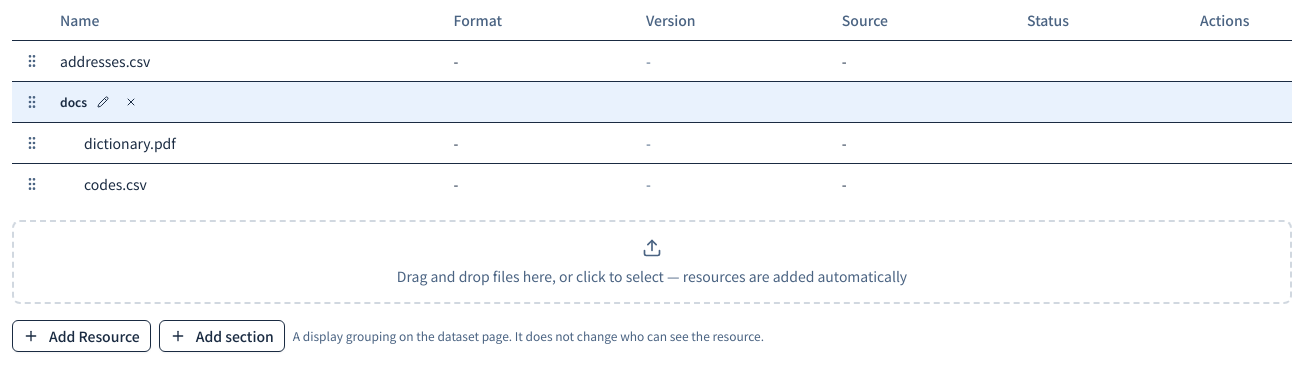
Test: ResourceList heading editing › locks the heading under edit too, and unlocks again on cancel
What coordinates should you click on to do the following:
click the button named "Rename section"
I would click on:
 (103, 102)
Its box is [91, 90, 115, 114].
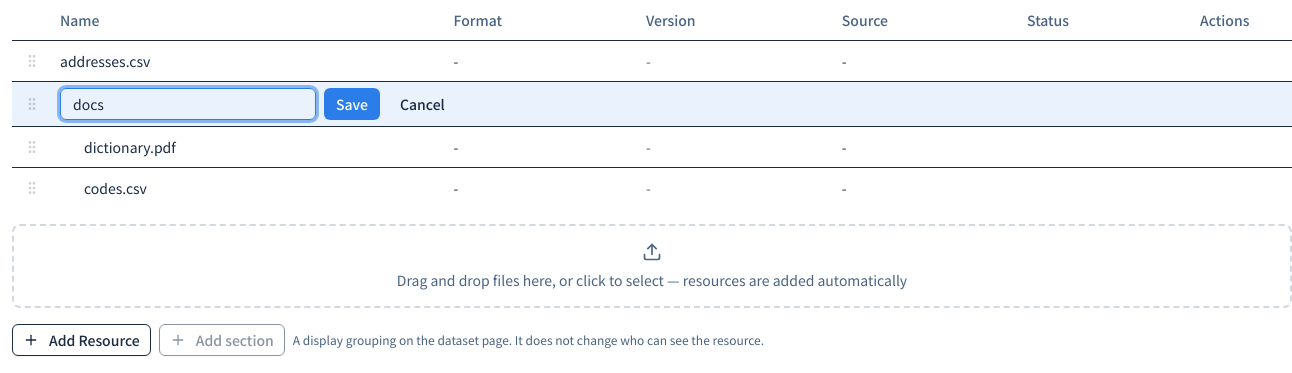
expect the button named "Reorder section" is disabled: met, box [20, 92, 44, 116]
What coordinates should you click on to do the following:
click the button "Cancel"
I would click on:
 (422, 104)
Its box is [388, 88, 457, 120].
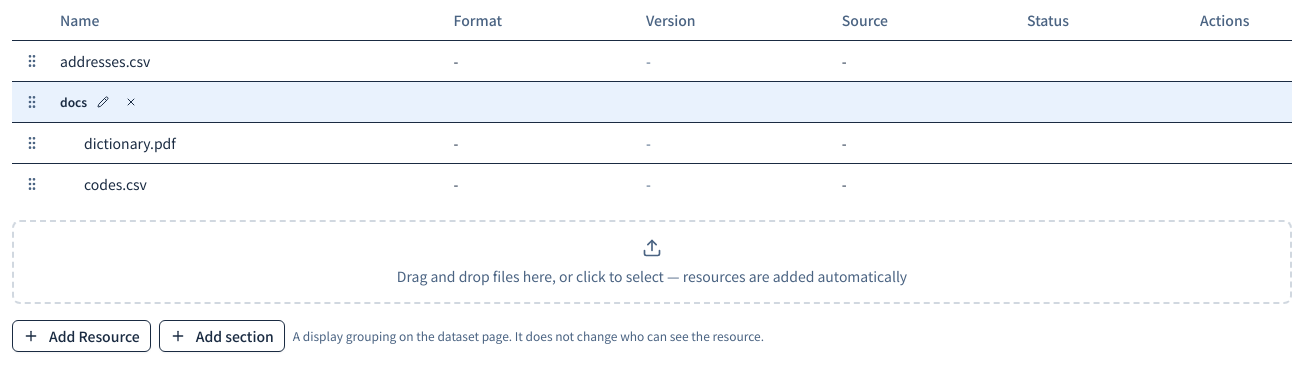
expect the button named "Reorder section" is enabled: met, box [20, 90, 44, 114]
expect the button "Add section" is enabled: met, box [159, 320, 285, 352]
